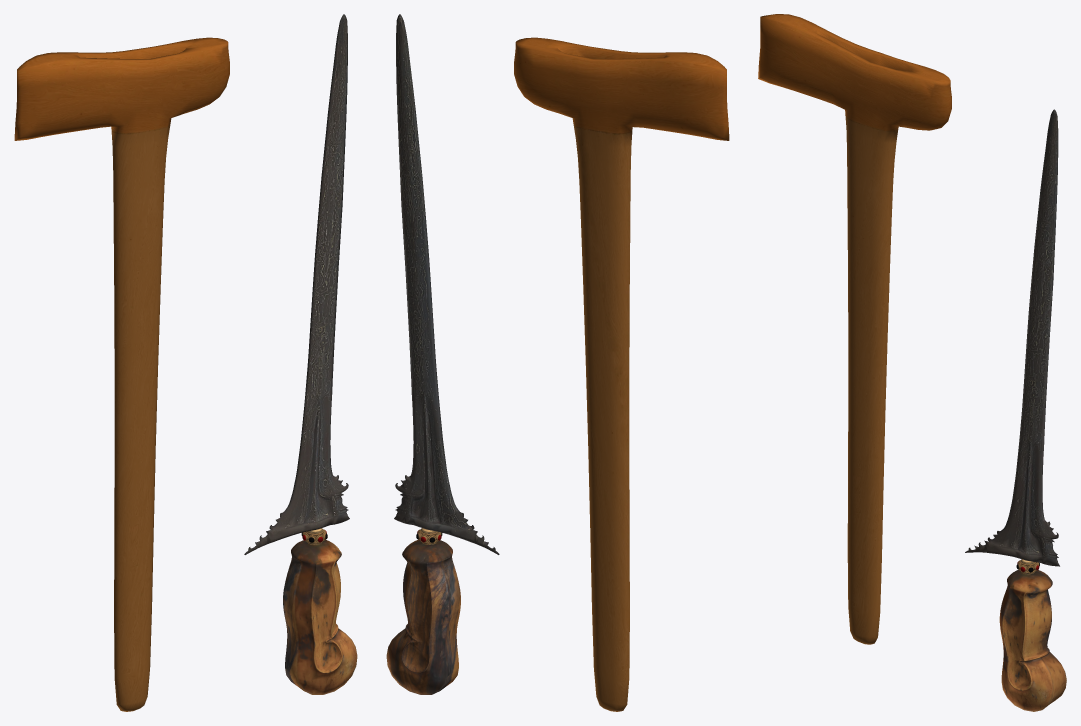
File: mkn04_low.glb
3 views of the same model, side by side, from view 1: azimuth 30°, elevation 25°; view 2: azimuth 150°, elevation 25°; view 3: azimuth 330°, elevation 25° (orthographic). The views are drawn at different scales.
Parts seen in each view (by area): view 1: mkn04_Bali; view 2: mkn04_Bali; view 3: mkn04_Bali.
Boxes of the visible parts, left/top/right/bottom form: mkn04_Bali: left=14, top=14, right=357, bottom=711; mkn04_Bali: left=386, top=14, right=729, bottom=711; mkn04_Bali: left=758, top=14, right=1066, bottom=711.
Bounding box in the file's own units: 1.03 × 2.05 × 0.1386.
Materials: 3 (3 with a texture image).
